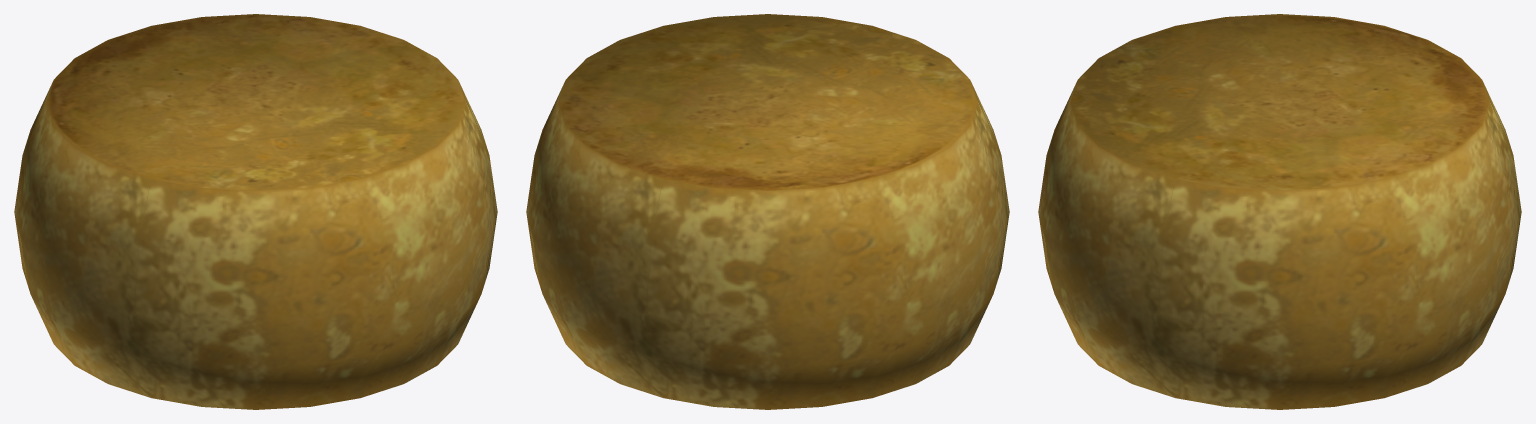
File: Cheese_Wheel_Full.obj
3 views of the same model, side by side, from view 1: azimuth 30°, elevation 25°; view 2: azimuth 150°, elevation 25°; view 3: azimuth 270°, elevation 25° (orthographic).
Visible parts, largest first — view 1: yellowcheesewheel; view 2: yellowcheesewheel; view 3: yellowcheesewheel.
Part boxes in pixels (x1,y1,x2,y2): yellowcheesewheel: [14, 14, 497, 409]; yellowcheesewheel: [526, 14, 1009, 409]; yellowcheesewheel: [1038, 14, 1521, 409].
Bounding box in the file's own units: 0.3157 × 0.1579 × 0.3157.
